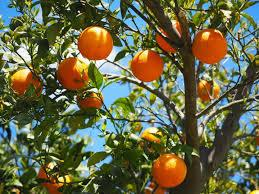Orange: (151, 154, 187, 189), (193, 29, 225, 63), (78, 27, 113, 58), (38, 160, 75, 189), (10, 67, 44, 98), (157, 19, 188, 50), (132, 49, 162, 79), (60, 56, 88, 88), (76, 87, 105, 112), (141, 129, 166, 149), (197, 81, 221, 100)
